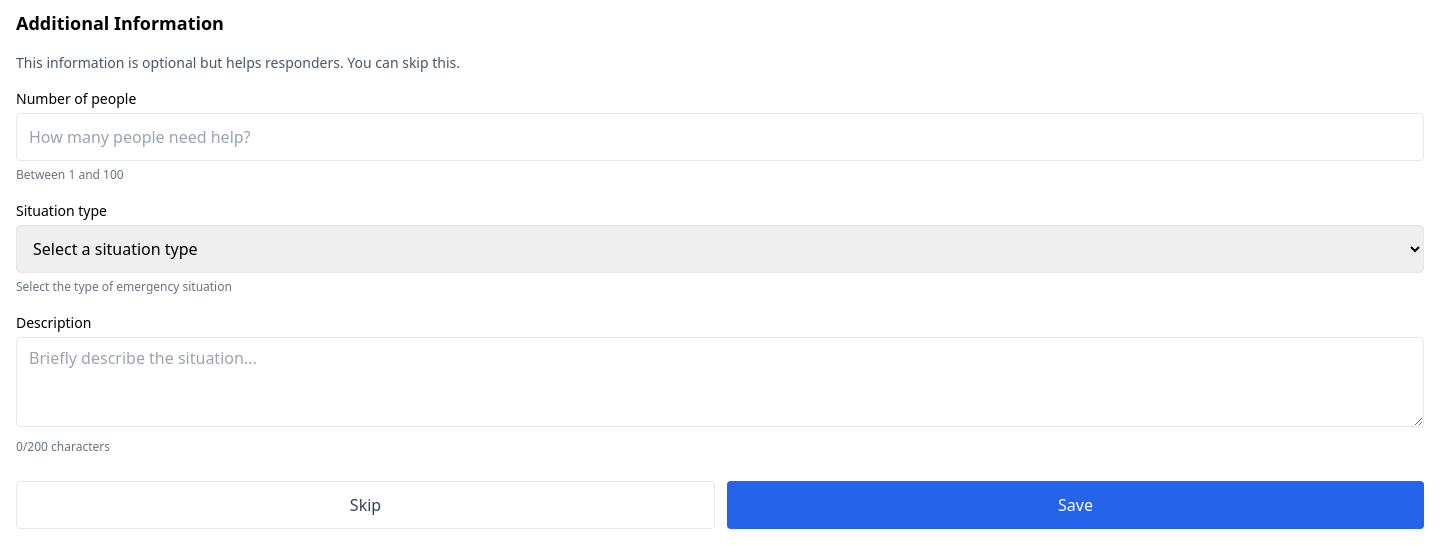
Test case: AdditionalInfoForm › Form Submission › disables buttons during submission
Step 1. Click the button with aria-label "save additional information" → {"x": 1076, "y": 505}, box [727, 481, 1424, 529]
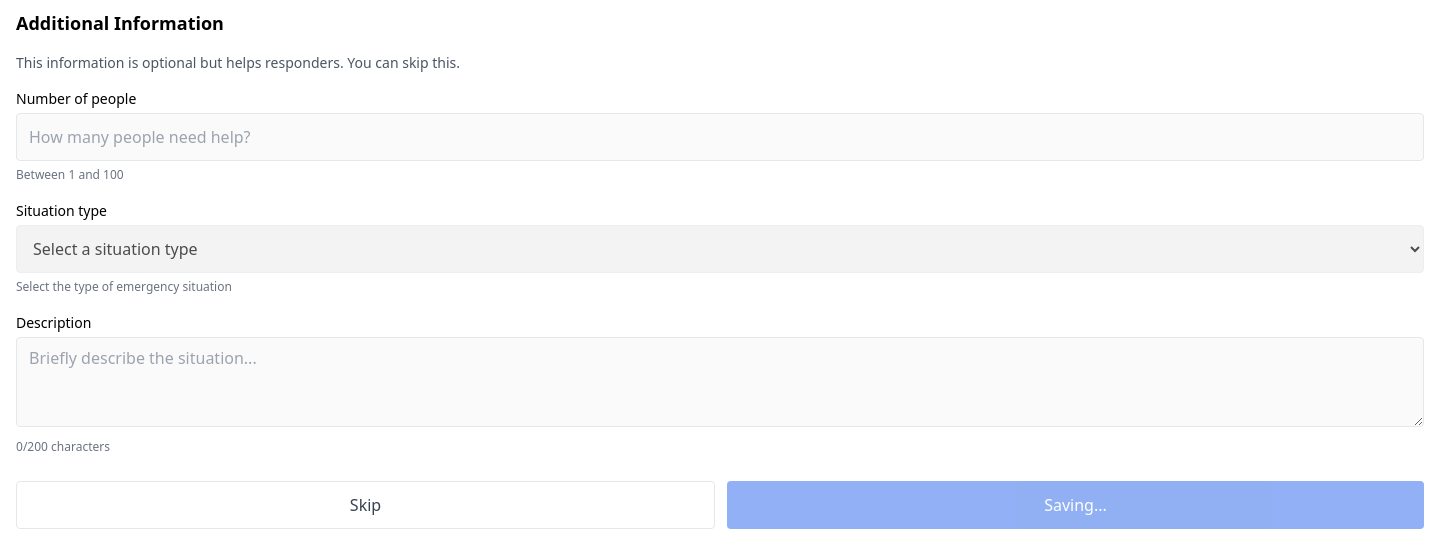
Check: the button with aria-label "skip additional information" is disabled, box [16, 481, 715, 529]
Check: the button with aria-label "save additional information" is disabled, box [727, 481, 1424, 529]
